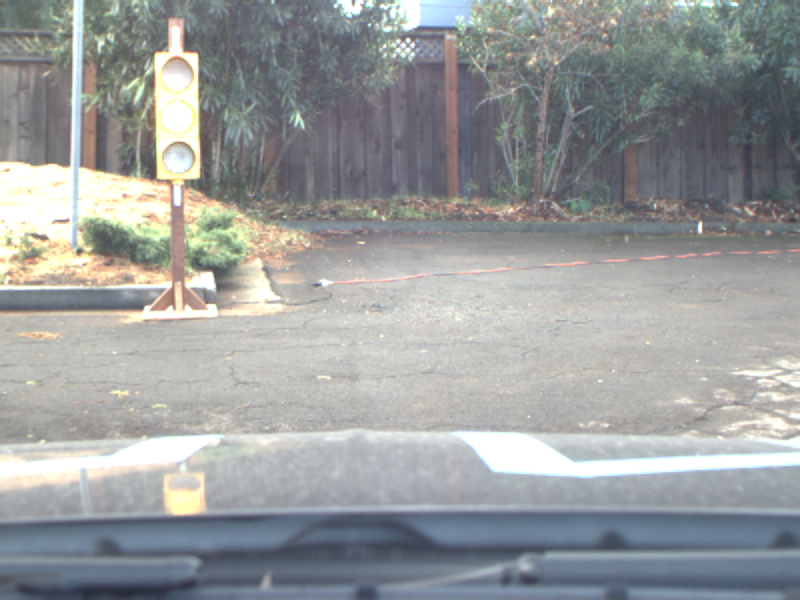Yellow: (152, 50, 205, 182)
